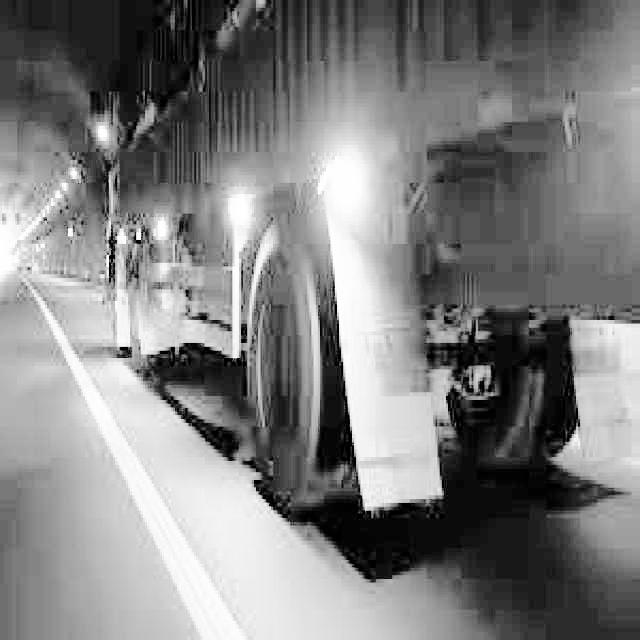Truck: (100, 0, 637, 533)
